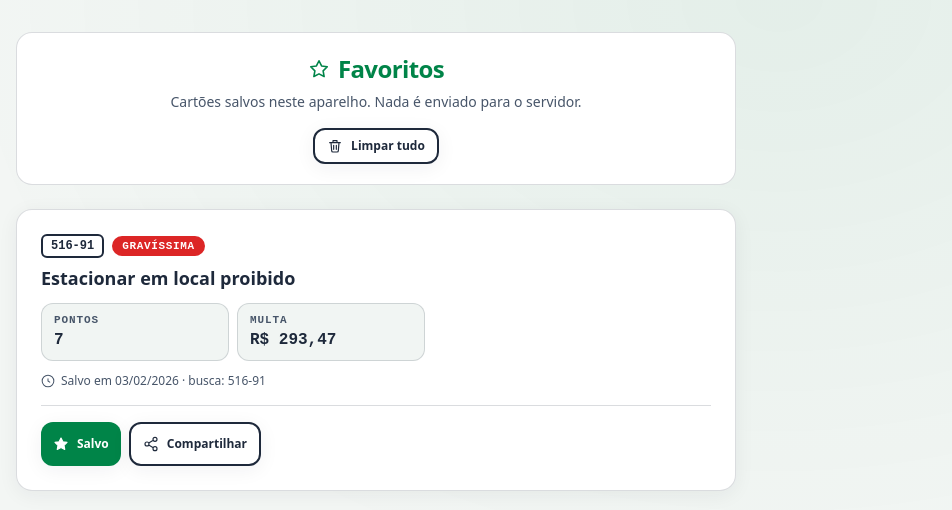
FavoritosPage › drops the card from the list when it is unfavorited
Click the button "Salvo": (81, 444) [41, 422, 121, 466]
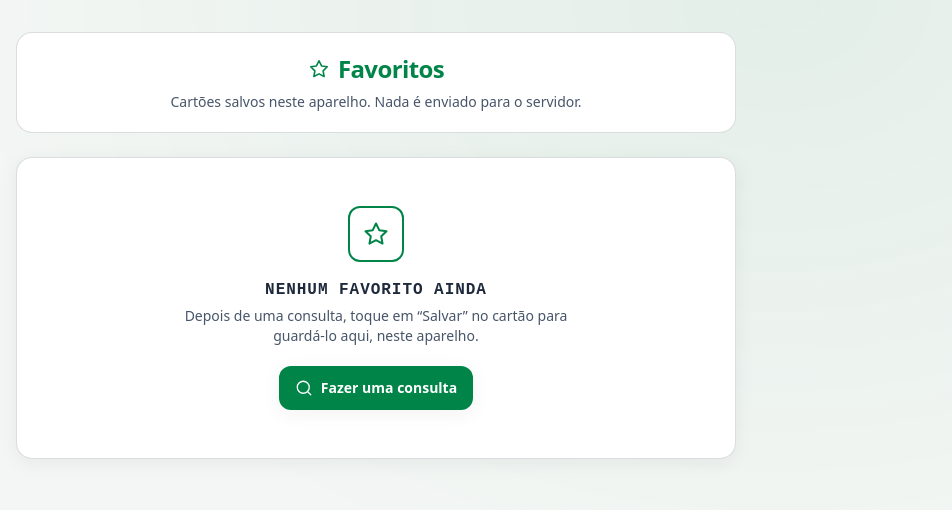
Expected: the heading "Nenhum favorito ainda" is shown, [265, 278, 487, 302]
